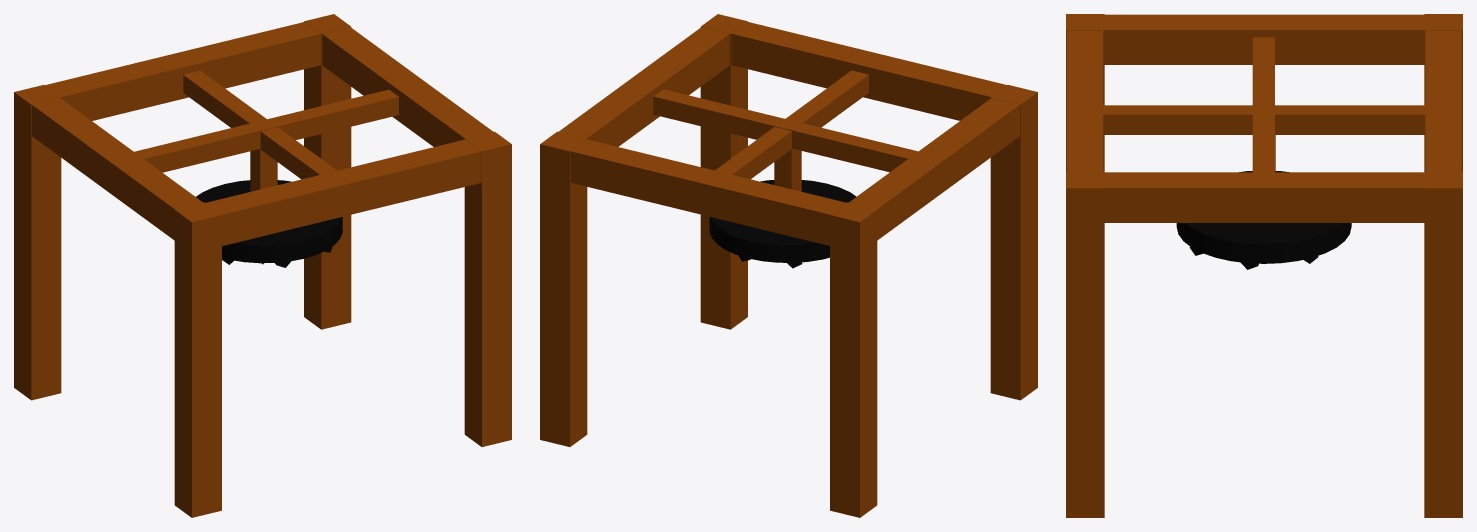
File: Machine.fbx
The picture shows the model from 3 angles, left to right: view 1: azimuth 30°, elevation 25°; view 2: azimuth 150°, elevation 25°; view 3: azimuth 270°, elevation 25°; orthographic projection. The views are drawn at different scales.
Parts seen in each view (by area): view 1: Cube, Cube.003, Cube.004, Cube.009, Cube.006, Cube.007, Cube.008, Cube.005, Cube.011, Cube.010, Drill, Cube.012; view 2: Cube.004, Cube.005, Cube, Cube.006, Cube.009, Cube.007, Cube.003, Cube.008, Cube.011, Cube.010, Drill, Cube.012; view 3: Cube.008, Cube.007, Cube.003, Cube.005, Cube.010, Drill, Cube.006, Cube.009, Cube.011, Cube.004, Cube.
Boxes of the visible parts, x1,y1,x2,y2 form: Cube: (174,202,221,517); Cube.003: (464,131,511,446); Cube.004: (14,85,61,400); Cube.009: (206,139,481,245); Cube.006: (45,22,320,120); Cube.007: (32,98,202,240); Cube.008: (322,27,492,146); Cube.005: (304,14,351,329); Cube.011: (134,89,398,172); Cube.010: (183,70,336,179); Drill: (196,180,342,267); Cube.012: (250,149,277,191); Cube.004: (830,202,877,517); Cube.005: (540,131,587,446); Cube: (990,85,1037,400); Cube.006: (570,139,846,245); Cube.009: (731,22,1006,120); Cube.007: (849,98,1019,240); Cube.003: (700,14,747,329); Cube.008: (559,27,729,146); Cube.011: (653,89,917,172); Cube.010: (715,70,868,179); Drill: (709,180,856,268); Cube.012: (774,141,801,191); Cube.008: (1104,172,1424,222); Cube.007: (1104,14,1424,64); Cube.003: (1066,171,1104,517); Cube.005: (1424,171,1462,517); Cube.010: (1103,105,1425,134); Drill: (1176,171,1351,269); Cube.006: (1425,30,1461,171); Cube.009: (1067,30,1103,171); Cube.011: (1252,37,1274,172); Cube.004: (1424,14,1462,171); Cube: (1066,14,1104,171).
Bounding box in the file's own units: 352 × 311 × 339.
